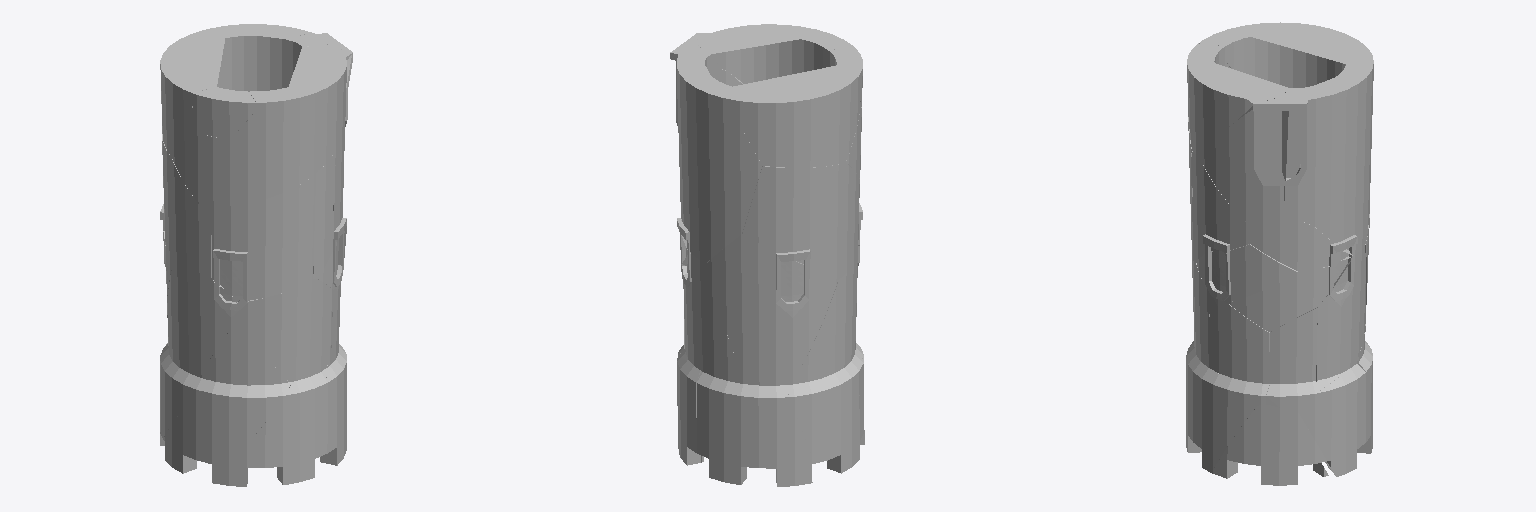
File: destruction_tower_000004.obj
3 renders of one model, left to right at view 1: azimuth 30°, elevation 25°; view 2: azimuth 150°, elevation 25°; view 3: azimuth 270°, elevation 25°, orthographic.
Parts seen in each view (by area): view 1: tower.001_cell.024_Mesh.024, tower.001_cell.028_Mesh.028, tower.001_cell.021_Mesh.021, tower.001_cell.006_Mesh.006, tower.001_cell.011_Mesh.011, tower.001_cell.013_Mesh.013, tower.001_cell.002_Mesh.002, tower.001_cell.015_Mesh.015, tower.001_cell.009_Mesh.009, tower.001_cell.017_Mesh.017, tower.001_cell.003_Mesh.003, tower.001_cell.014_Mesh.014 (+9 smaller); view 2: tower.001_cell.025_Mesh.025, tower.001_cell.017_Mesh.017, tower.001_cell.007_Mesh.007, tower.001_cell.015_Mesh.015, tower.001_cell.003_Mesh.003, tower.001_cell.028_Mesh.028, tower.001_cell.005_Mesh.005, tower.001_cell.012_Mesh.012, tower.001_cell.009_Mesh.009, tower.001_cell.029_Mesh.029, tower.001_cell.006_Mesh.006, tower.001_cell.026_Mesh.026 (+1 smaller); view 3: tower.001_cell.017_Mesh.017, tower.001_cell.020_Mesh.020, tower.001_cell.015_Mesh.015, tower.001_cell.028_Mesh.028, tower.001_cell.030_Mesh.030, tower.001_cell.029_Mesh.029, tower.001_cell_Mesh, tower.001_cell.012_Mesh.012, tower.001_cell.016_Mesh.016, tower.001_cell.027_Mesh.027, tower.001_cell.023_Mesh.023, tower.001_cell.026_Mesh.026 (+8 smaller).
Boxes of the visible parts, <box> form: tower.001_cell.024_Mesh.024: <box>211,175,315,301</box>; tower.001_cell.028_Mesh.028: <box>249,46,352,170</box>; tower.001_cell.021_Mesh.021: <box>236,279,332,384</box>; tower.001_cell.006_Mesh.006: <box>163,389,255,486</box>; tower.001_cell.011_Mesh.011: <box>256,374,329,484</box>; tower.001_cell.013_Mesh.013: <box>206,321,290,433</box>; tower.001_cell.002_Mesh.002: <box>230,110,317,205</box>; tower.001_cell.015_Mesh.015: <box>160,30,224,156</box>; tower.001_cell.009_Mesh.009: <box>167,270,236,362</box>; tower.001_cell.017_Mesh.017: <box>205,24,311,91</box>; tower.001_cell.003_Mesh.003: <box>160,134,211,277</box>; tower.001_cell.014_Mesh.014: <box>172,131,229,216</box>; tower.001_cell.025_Mesh.025: <box>707,234,837,381</box>; tower.001_cell.017_Mesh.017: <box>677,58,762,262</box>; tower.001_cell.007_Mesh.007: <box>697,355,814,486</box>; tower.001_cell.015_Mesh.015: <box>727,65,860,167</box>; tower.001_cell.003_Mesh.003: <box>742,162,859,279</box>; tower.001_cell.028_Mesh.028: <box>697,24,847,83</box>; tower.001_cell.005_Mesh.005: <box>784,337,863,463</box>; tower.001_cell.012_Mesh.012: <box>680,253,733,367</box>; tower.001_cell.009_Mesh.009: <box>802,246,859,365</box>; tower.001_cell.029_Mesh.029: <box>677,355,700,465</box>; tower.001_cell.006_Mesh.006: <box>827,356,864,473</box>; tower.001_cell.026_Mesh.026: <box>670,46,720,125</box>; tower.001_cell.017_Mesh.017: <box>1314,60,1373,256</box>; tower.001_cell.020_Mesh.020: <box>1201,97,1288,225</box>; tower.001_cell.015_Mesh.015: <box>1251,22,1372,87</box>; tower.001_cell.028_Mesh.028: <box>1187,43,1289,155</box>; tower.001_cell.030_Mesh.030: <box>1212,405,1326,485</box>; tower.001_cell.029_Mesh.029: <box>1297,361,1365,476</box>; tower.001_cell_Mesh: <box>1209,295,1269,405</box>; tower.001_cell.012_Mesh.012: <box>1316,246,1365,388</box>; tower.001_cell.016_Mesh.016: <box>1266,308,1320,409</box>; tower.001_cell.027_Mesh.027: <box>1228,256,1353,331</box>; tower.001_cell.023_Mesh.023: <box>1195,364,1256,472</box>; tower.001_cell.026_Mesh.026: <box>1281,86,1313,225</box>.
Bounding box in the file's own units: 44.35 × 97.35 × 43.01.